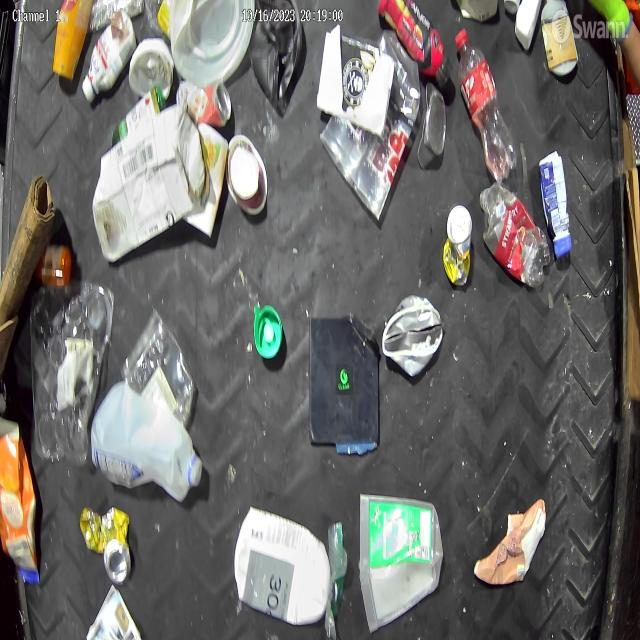can: (378, 292, 441, 386), (78, 504, 134, 592), (440, 195, 479, 294), (416, 76, 448, 181), (190, 73, 233, 133)
milk_jug: (89, 372, 203, 511)
plastic_bottle: (456, 27, 516, 187), (481, 185, 551, 296)
